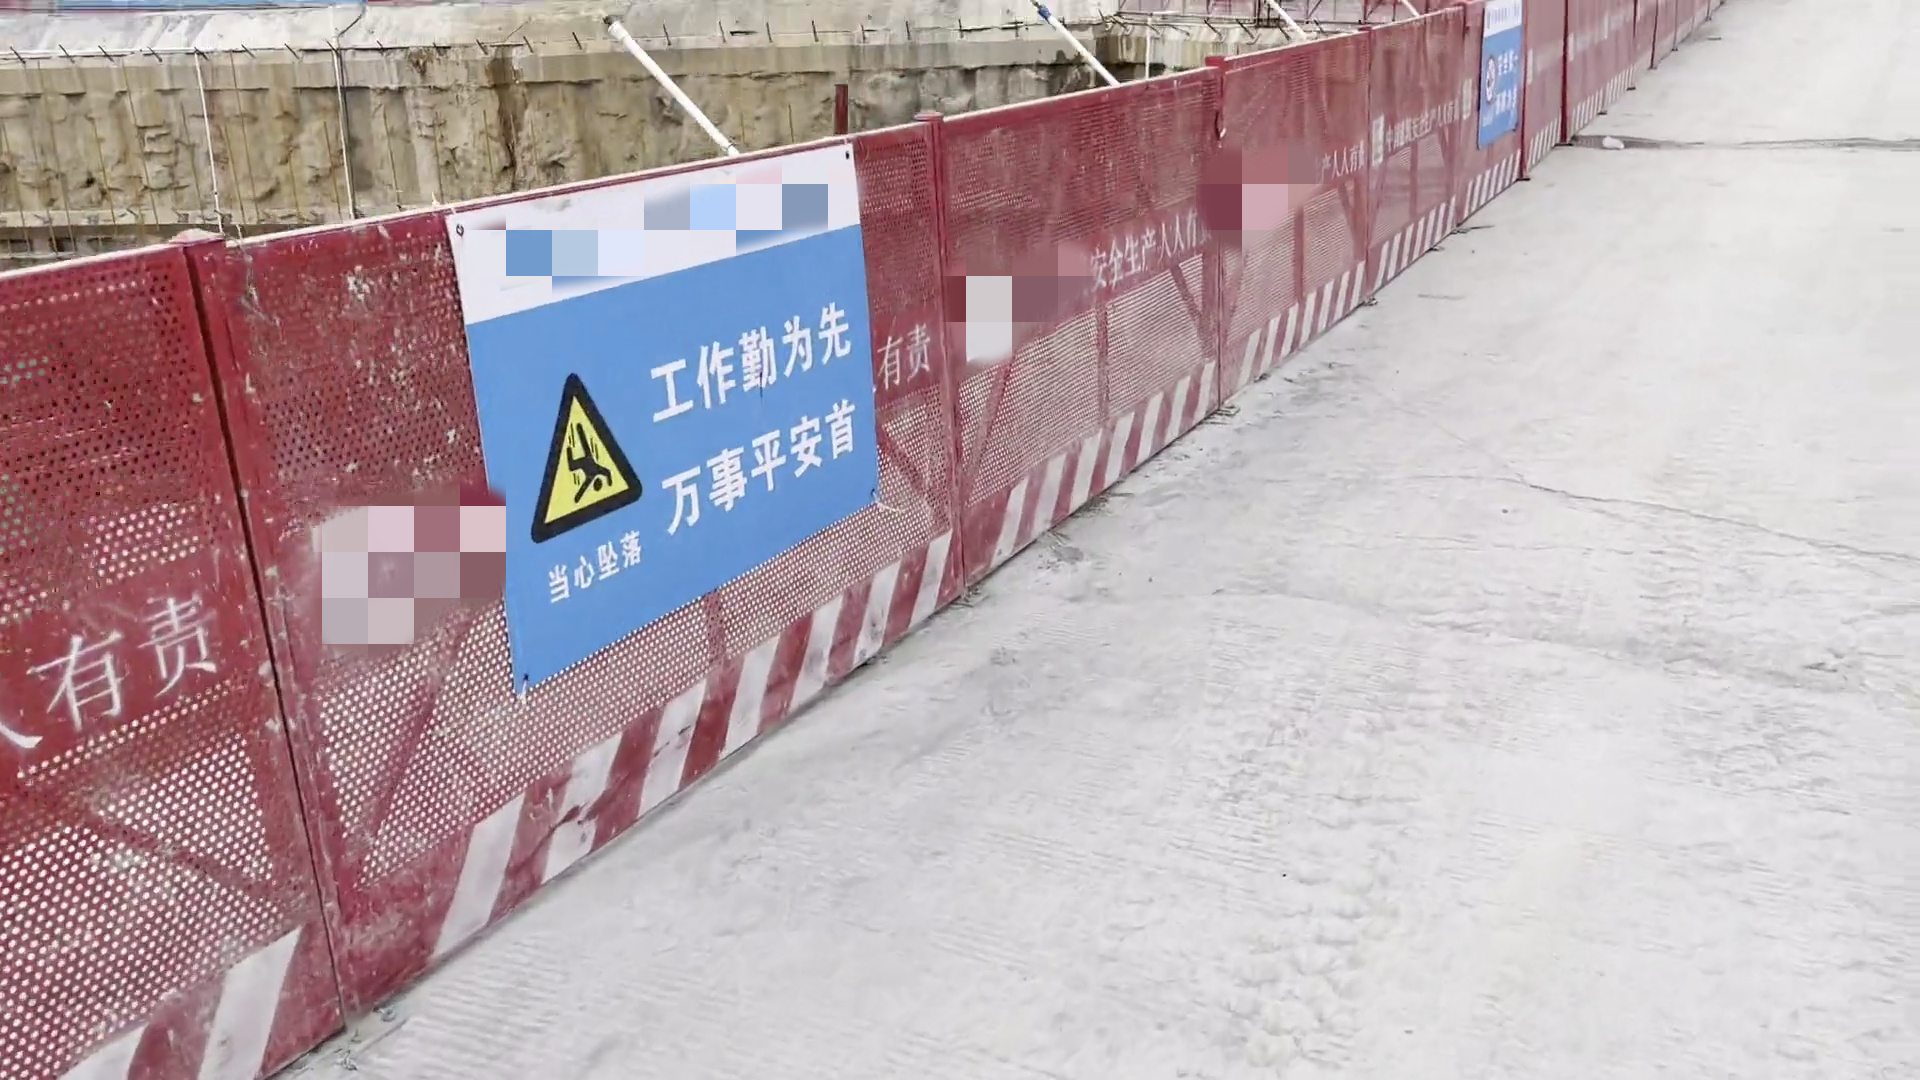fence: (4, 1, 1731, 1075)
slogan: (7, 585, 185, 789)
